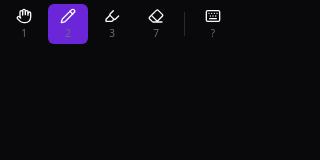
Test: AnnotationToolbar › tooltips (AC-4.6.5) › shows tooltip on hover for select tool
Hover over the button with test id "tool-button-select" at (24, 24), box [4,4,44,44]
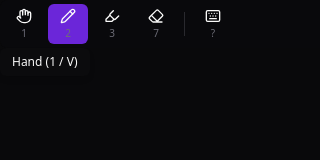
Check: the tooltip reads "Hand (1 / V)", box [12,53,78,70]
